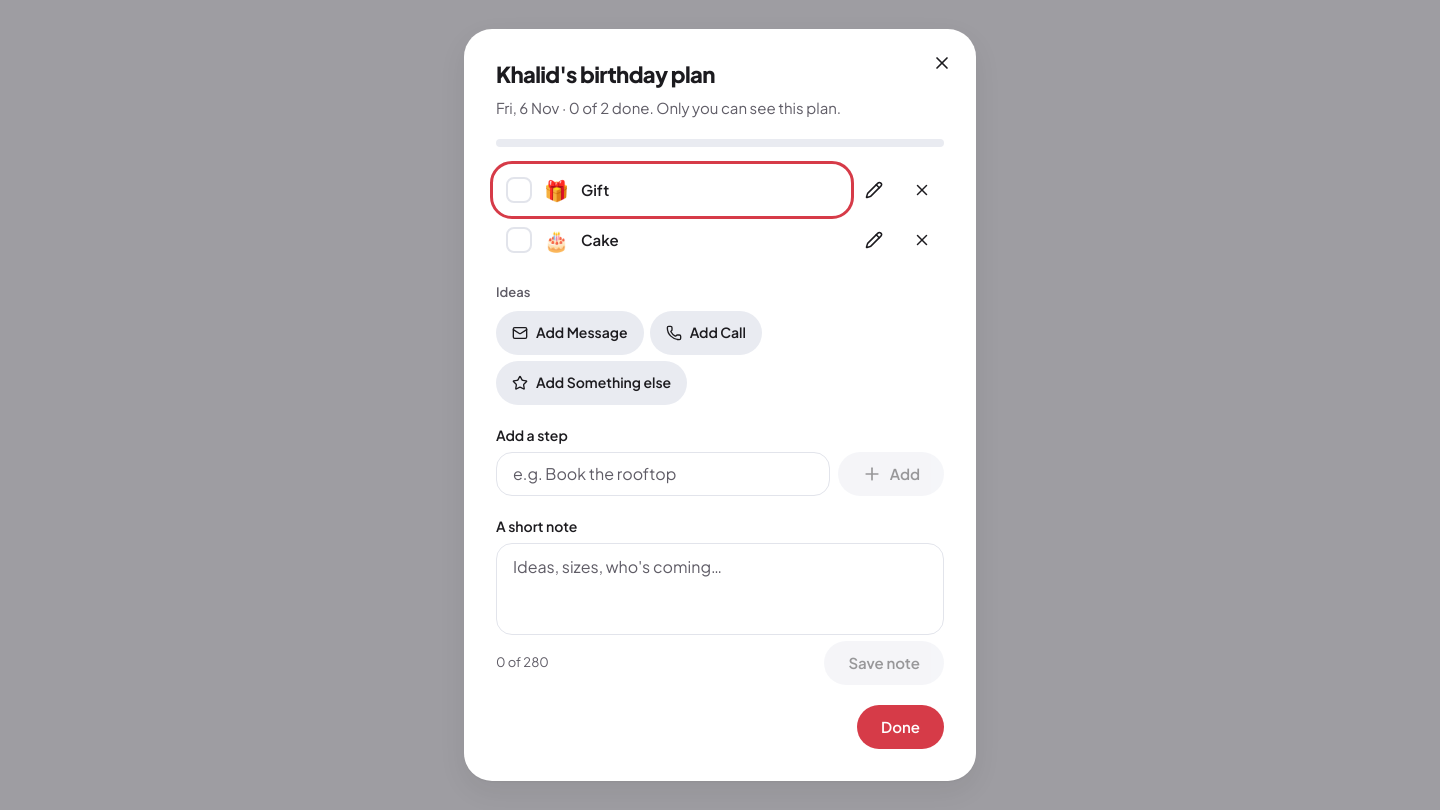
the plan sheet › removes a step and saves a short note
This screenshot has width=1440, height=810.
Click the 5th button named "Remove Cake" at (922, 240), box left=900, top=218, right=944, bottom=262
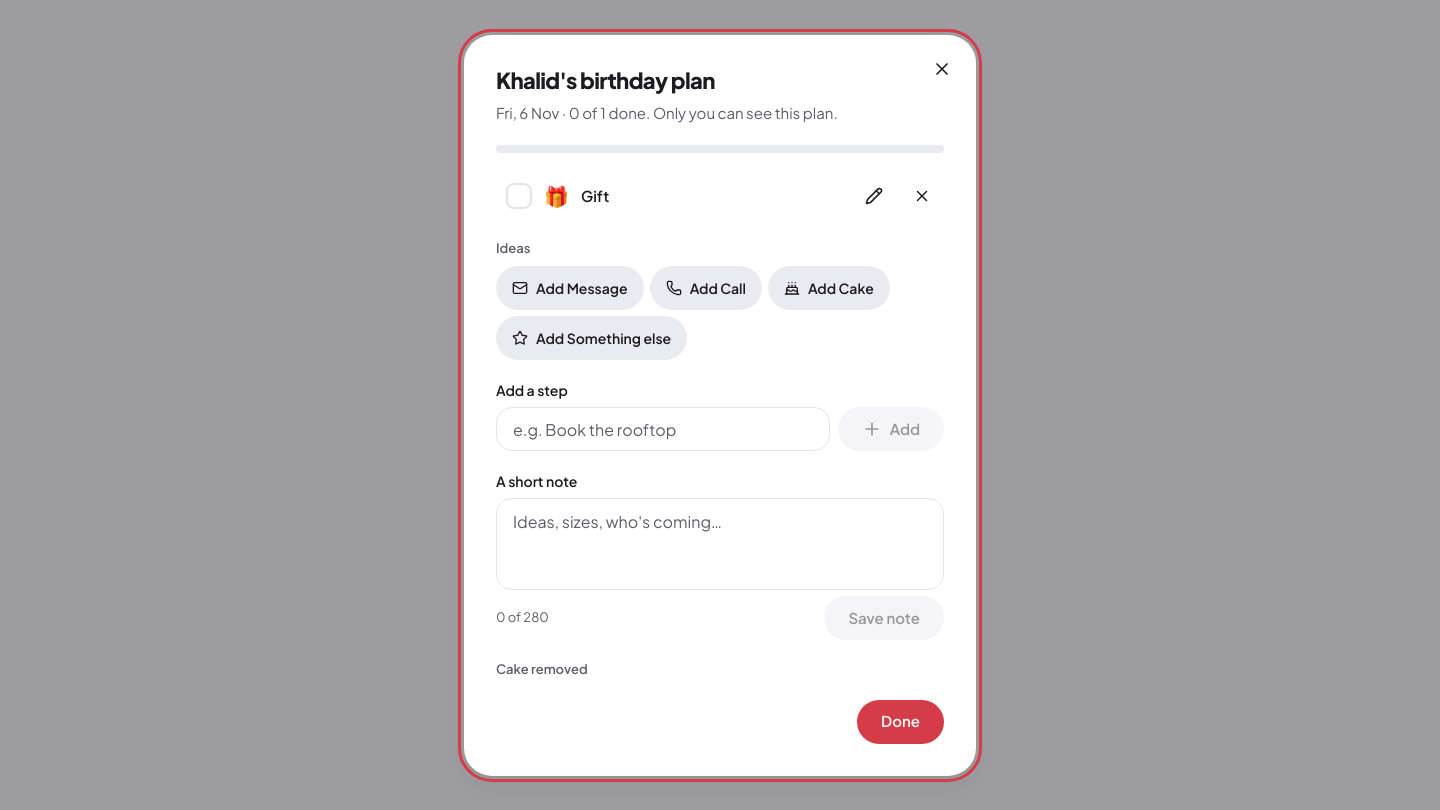
Type "Rooftop at sunset" into the text box labelled "A short note" at (720, 544), box left=496, top=498, right=944, bottom=590
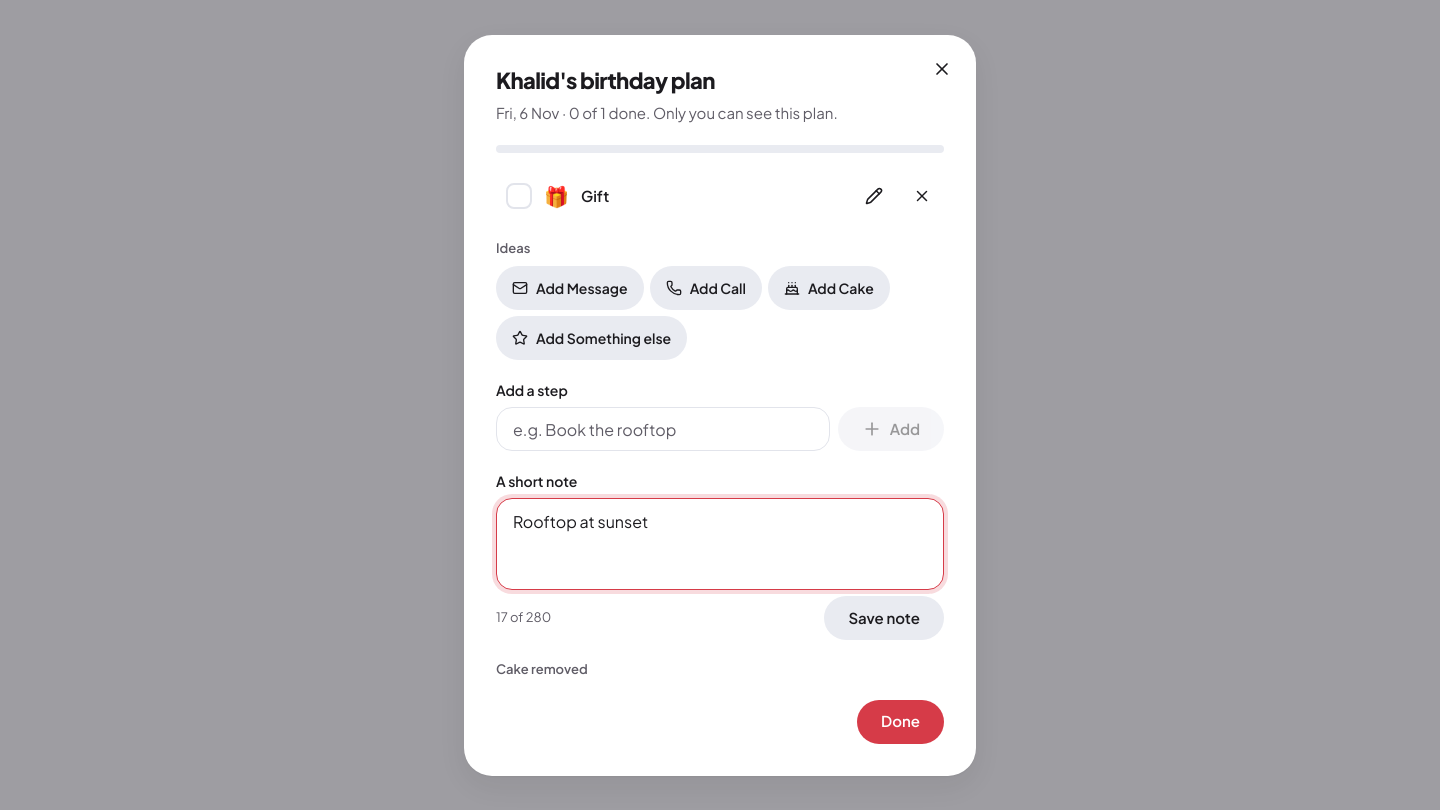
Click the button "Save note" at (884, 618), box left=824, top=596, right=944, bottom=640
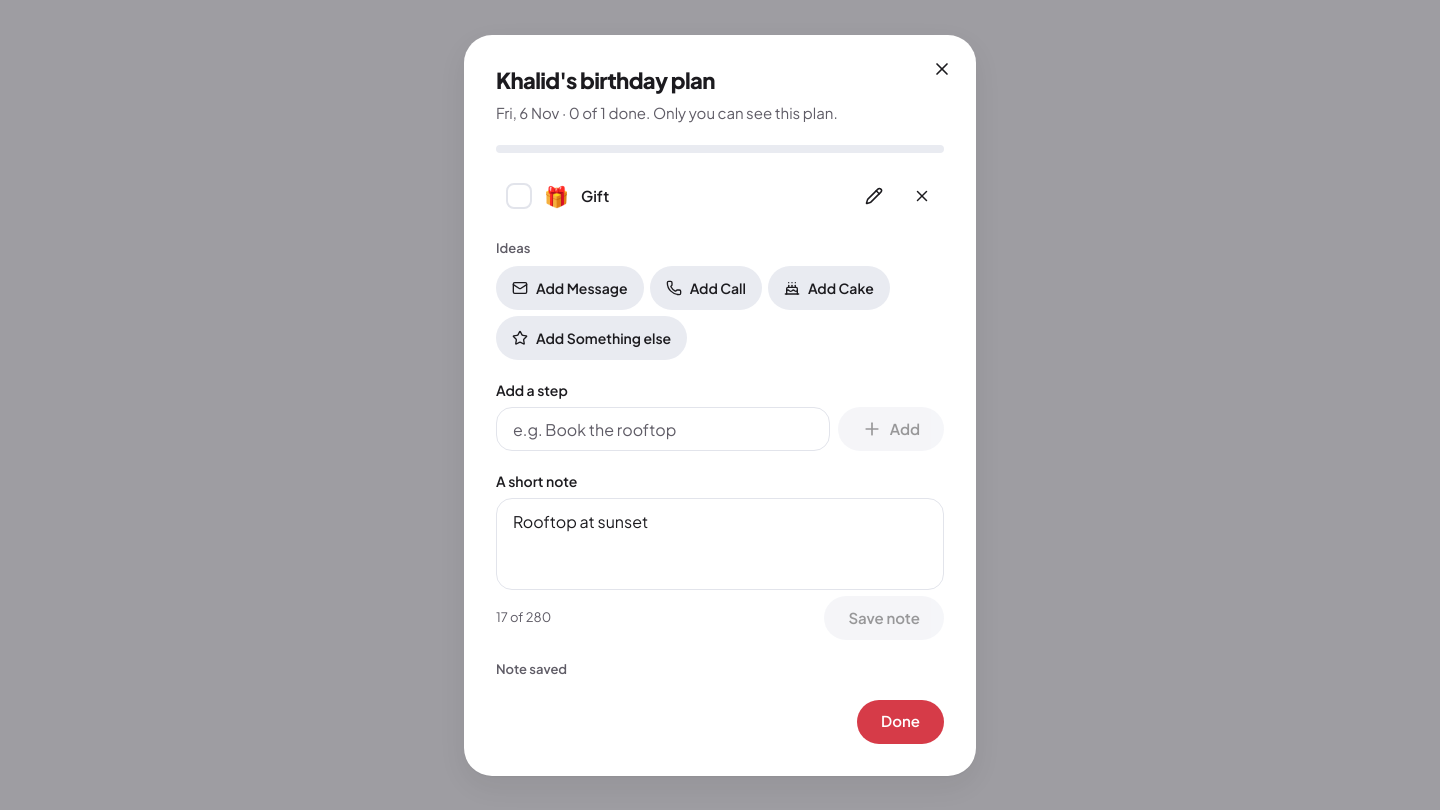
Now the text "Note saved" is shown, box left=496, top=661, right=567, bottom=677
